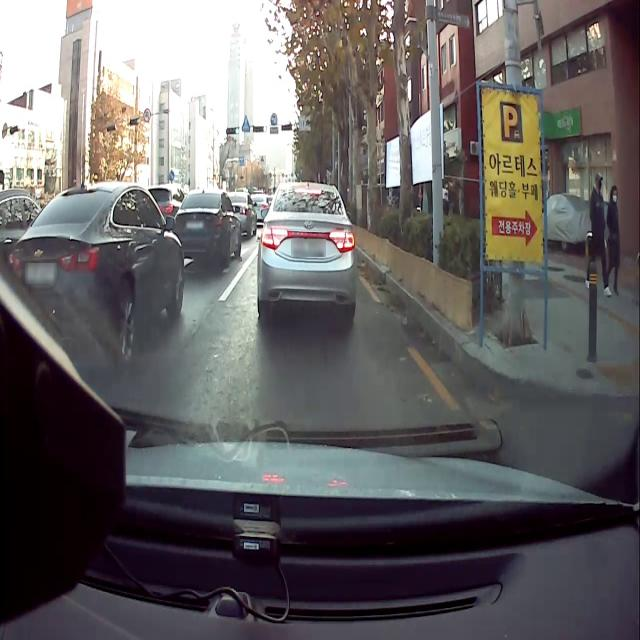Green Light: (290, 124, 295, 132), (235, 127, 239, 135), (263, 126, 267, 132)
